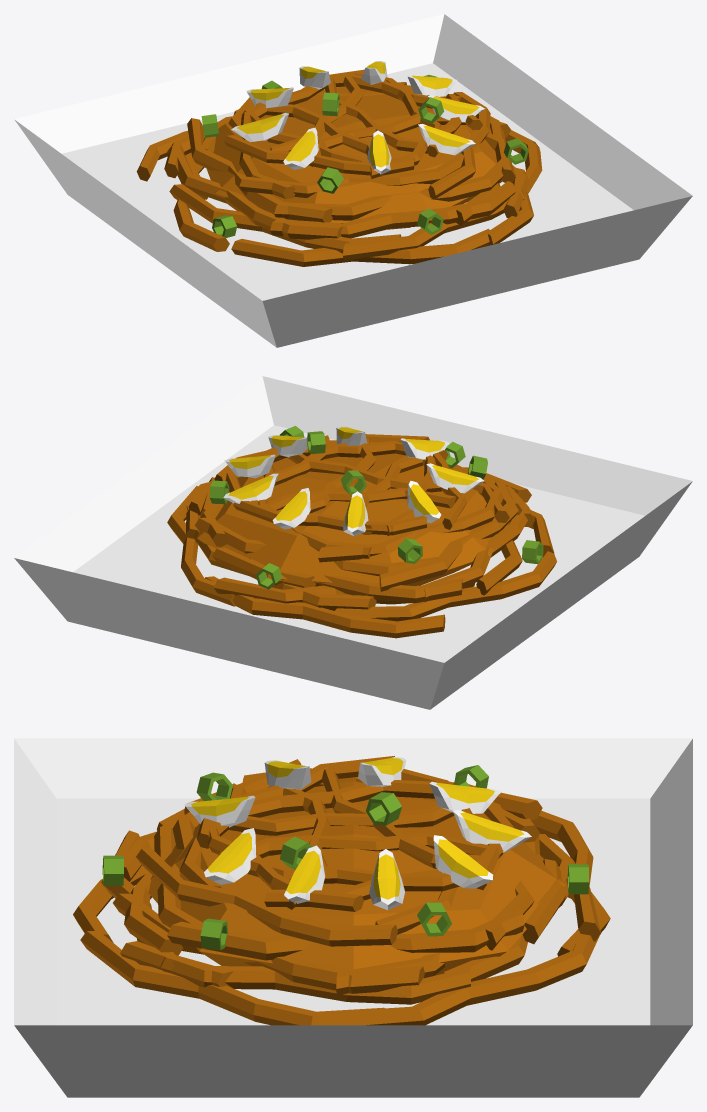
Rendered from FINAL_Pancit Malabon.fbx.
3 views of the same model, one above another, from view 1: azimuth 30°, elevation 25°; view 2: azimuth 150°, elevation 25°; view 3: azimuth 270°, elevation 25° (orthographic). The views are drawn at different scales.
Parts seen in each view (by area): view 1: Pancit Malabon; view 2: Pancit Malabon; view 3: Pancit Malabon.
Boxes of the visible parts, x1=… form: Pancit Malabon: x1=14, y1=14, x2=692, y2=347; Pancit Malabon: x1=14, y1=376, x2=692, y2=709; Pancit Malabon: x1=14, y1=738, x2=692, y2=1097.
Size of the model in its own units: 94.43 by 26.75 by 94.43.
